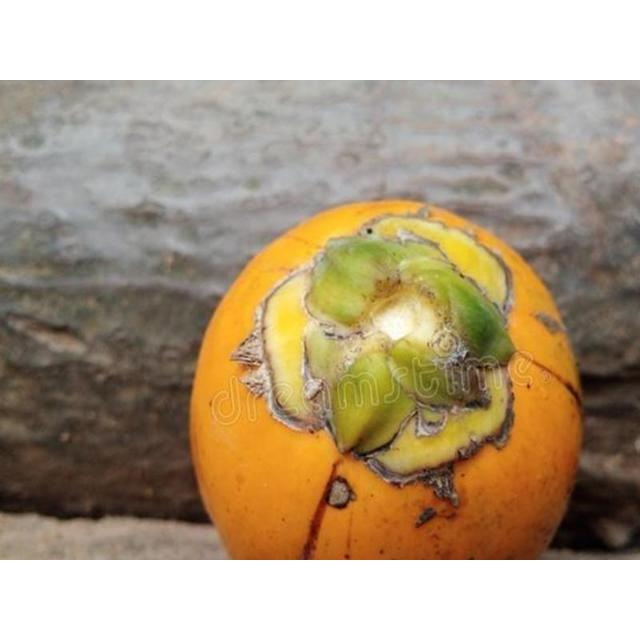good: (187, 200, 585, 559)
